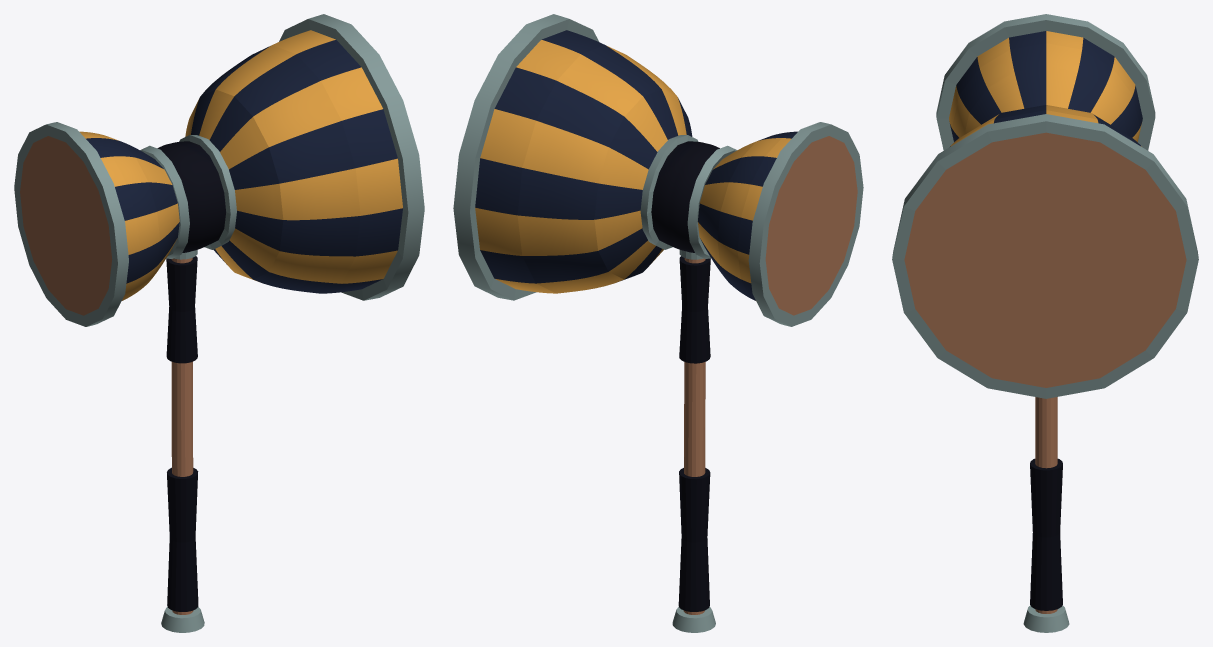
File: F_Hammer_01.fbx
3 renders of one model, left to right at view 1: azimuth 30°, elevation 25°; view 2: azimuth 150°, elevation 25°; view 3: azimuth 270°, elevation 25°, orthographic. The views are drawn at different scales.
Parts seen in each view (by area): view 1: F_Hammer_01; view 2: F_Hammer_01; view 3: F_Hammer_01.
Part boxes in pixels (x1=…): F_Hammer_01: x1=14, y1=14, x2=424, y2=632; F_Hammer_01: x1=453, y1=14, x2=863, y2=632; F_Hammer_01: x1=892, y1=14, x2=1198, y2=632.
Bounding box in the file's own units: 45.96 × 85.58 × 40.41.
Materials: 1 (1 with a texture image).
